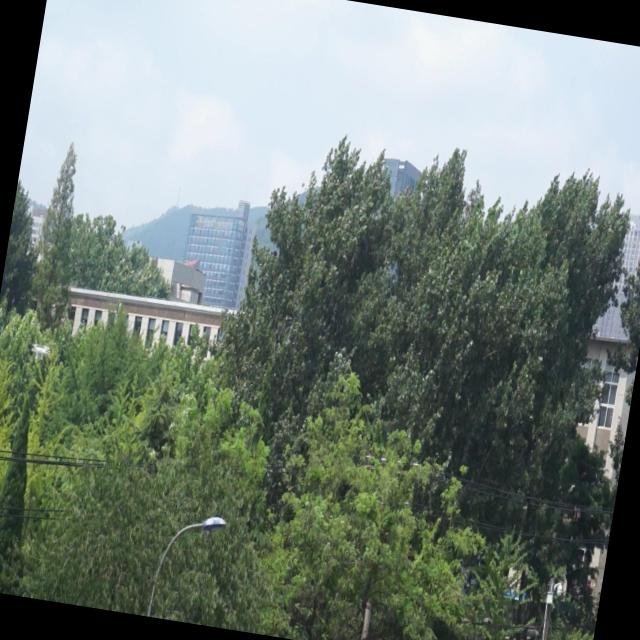drone: (28, 339, 52, 367)
